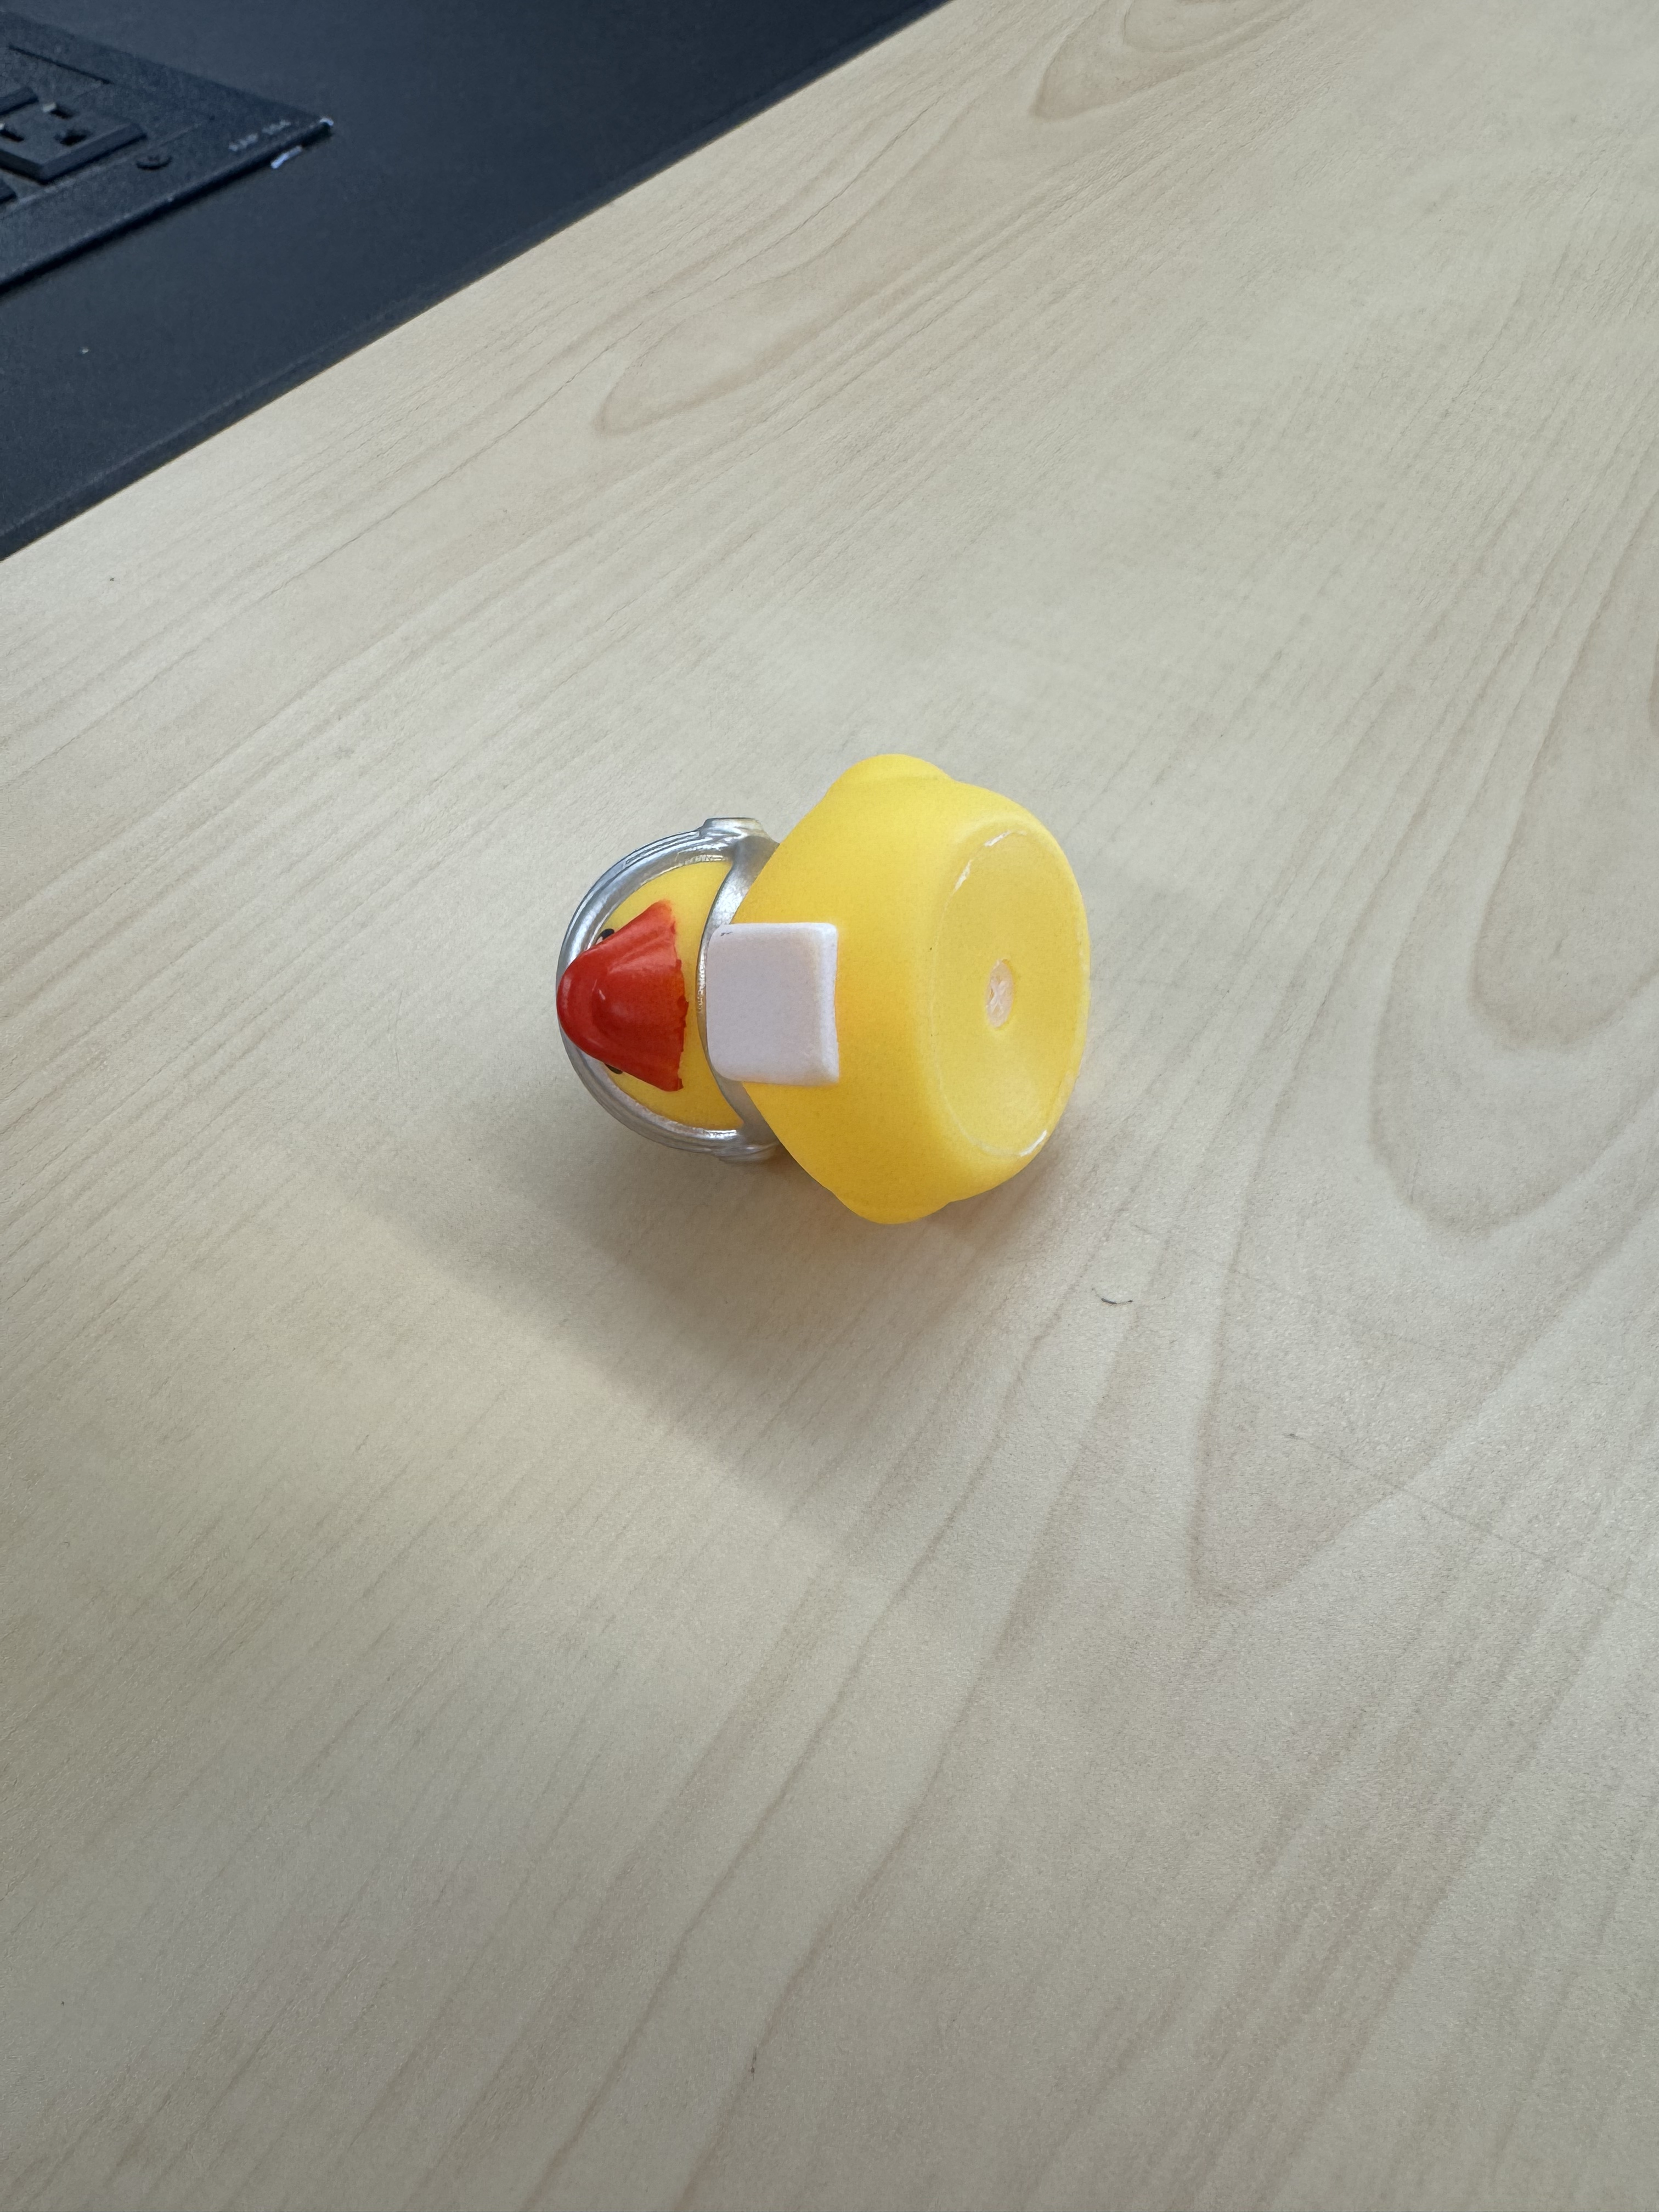duck_specialty: (558, 740, 1098, 1249)
